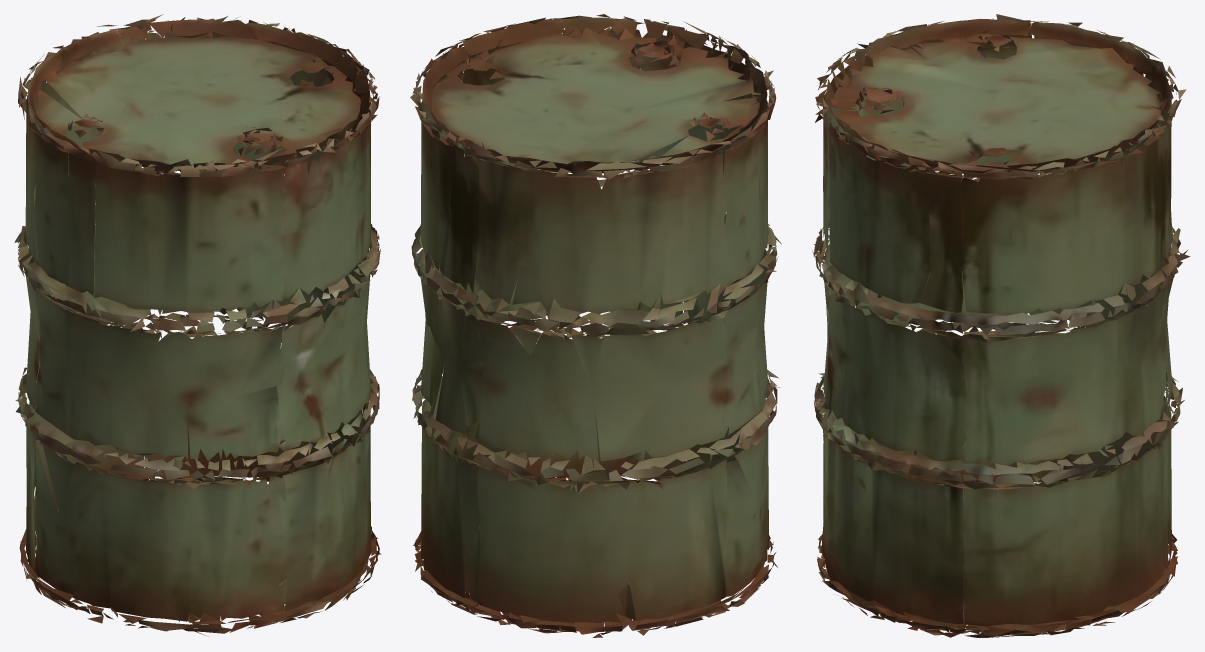
File: container_barrel.glb
The picture shows the model from 3 angles, left to right: view 1: azimuth 30°, elevation 25°; view 2: azimuth 150°, elevation 25°; view 3: azimuth 270°, elevation 25°; orthographic projection.
Parts seen in each view (by area): view 1: container_barrel; view 2: container_barrel; view 3: container_barrel.
Boxes of the visible parts, <box> form: container_barrel: <box>14,14,381,636</box>; container_barrel: <box>410,14,781,637</box>; container_barrel: <box>812,14,1190,637</box>.
Bounding box in the file's own units: 0.9 × 1.25 × 0.889.
Materials: 1 (1 with a texture image).
